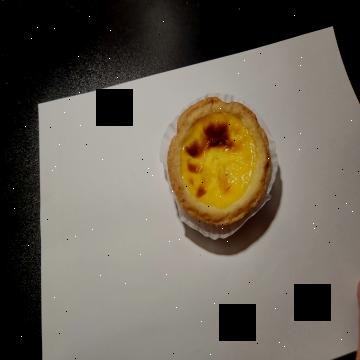EggTart: (168, 94, 272, 228)
